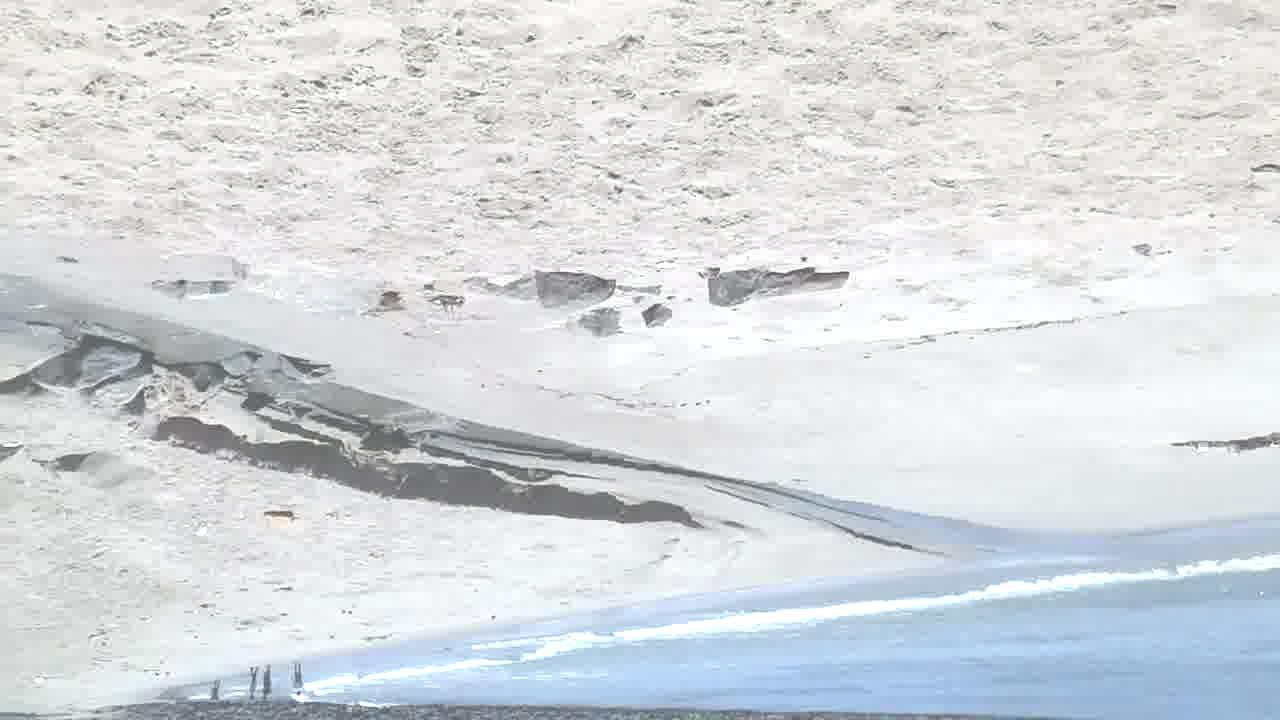obj: (697, 262, 852, 312), (142, 270, 255, 316), (532, 266, 620, 315), (568, 310, 624, 342), (425, 295, 469, 326), (365, 291, 408, 316), (640, 306, 679, 330), (418, 280, 441, 291)
sand/background: (1, 479, 1279, 719)
